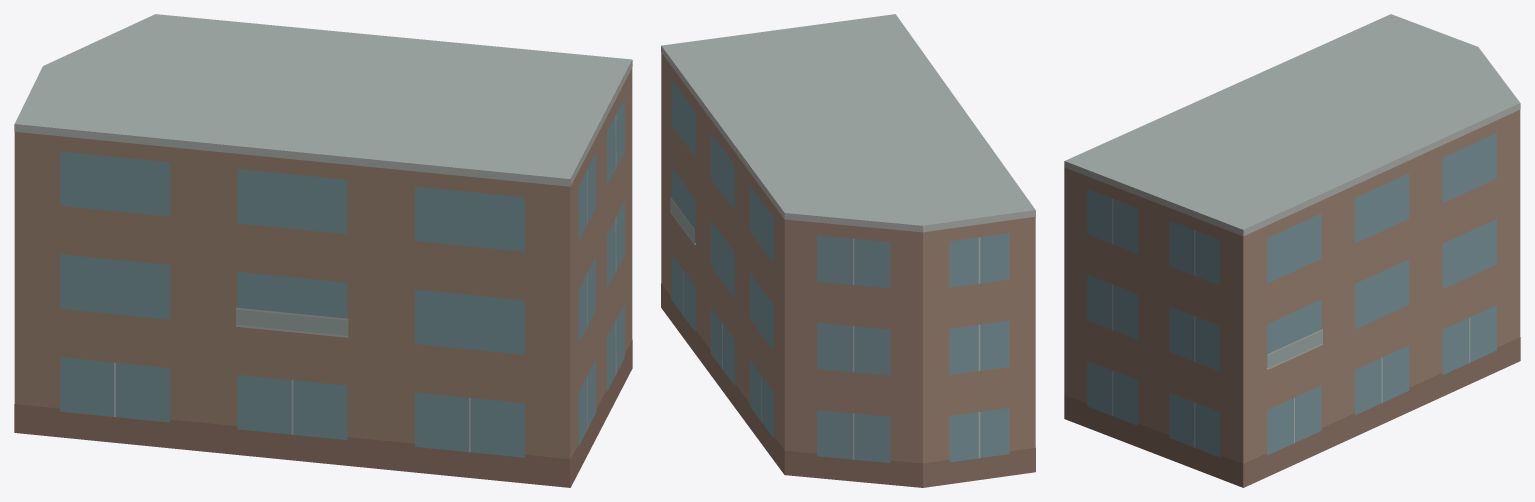
Rendered from survey-upis-32529028.glb.
The picture shows the model from 3 angles, left to right: view 1: azimuth 30°, elevation 25°; view 2: azimuth 150°, elevation 25°; view 3: azimuth 270°, elevation 25°; orthographic projection. The views are drawn at different scales.
Visible parts, largest first — view 1: survey-upis-32529028.tmp; view 2: survey-upis-32529028.tmp; view 3: survey-upis-32529028.tmp.
Part boxes in pixels (left/top/right/bottom): survey-upis-32529028.tmp: left=14, top=14, right=632, bottom=487; survey-upis-32529028.tmp: left=661, top=14, right=1035, bottom=487; survey-upis-32529028.tmp: left=1064, top=14, right=1520, bottom=487.
Bounding box in the file's own units: 17.6 × 9.8 × 15.71.
